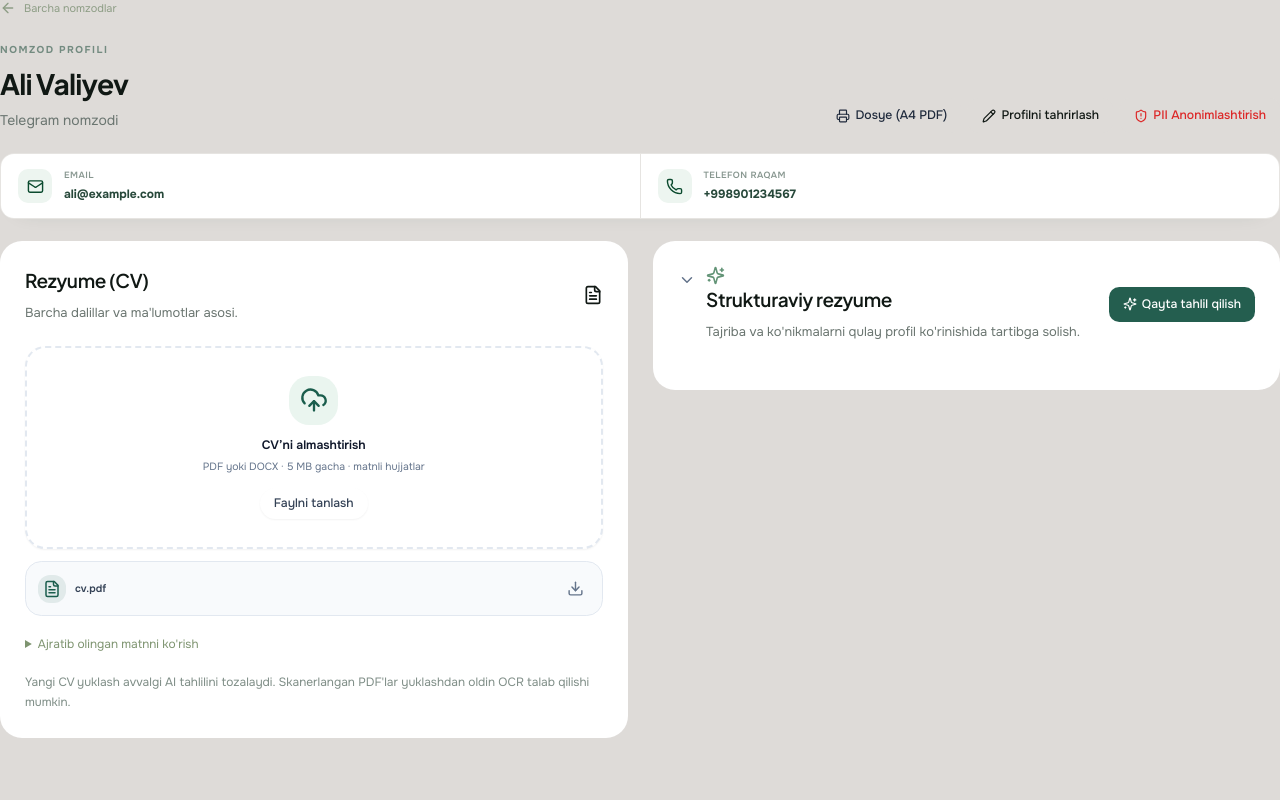
it: structured resume accordion › starts collapsed, keeps the re-parse action reachable, and opens to the parsed profile
Expected: the text "specializing in React.js" is not shown
Expected: the button "Qayta tahlil qilish" is shown, [1109, 287, 1255, 322]
Click the button "Strukturaviy rezyume".
click(886, 304)  # box [678, 266, 1094, 343]
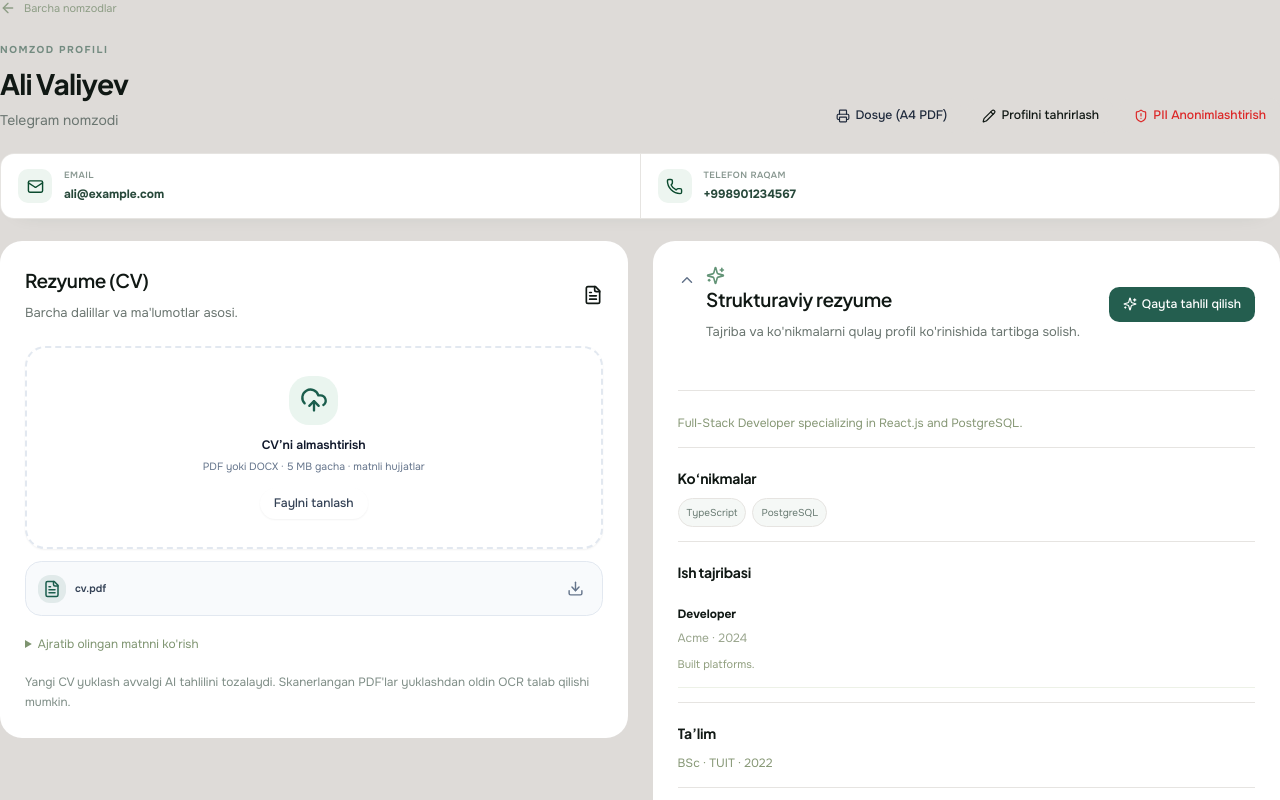
Now the button "Strukturaviy rezyume" is expanded
Now the text "specializing in React.js" is shown, box [678, 415, 1022, 431]
Now the text "TypeScript" is shown, box [678, 498, 746, 527]
Click the button "Strukturaviy rezyume".
click(886, 304)  # box [678, 266, 1094, 343]
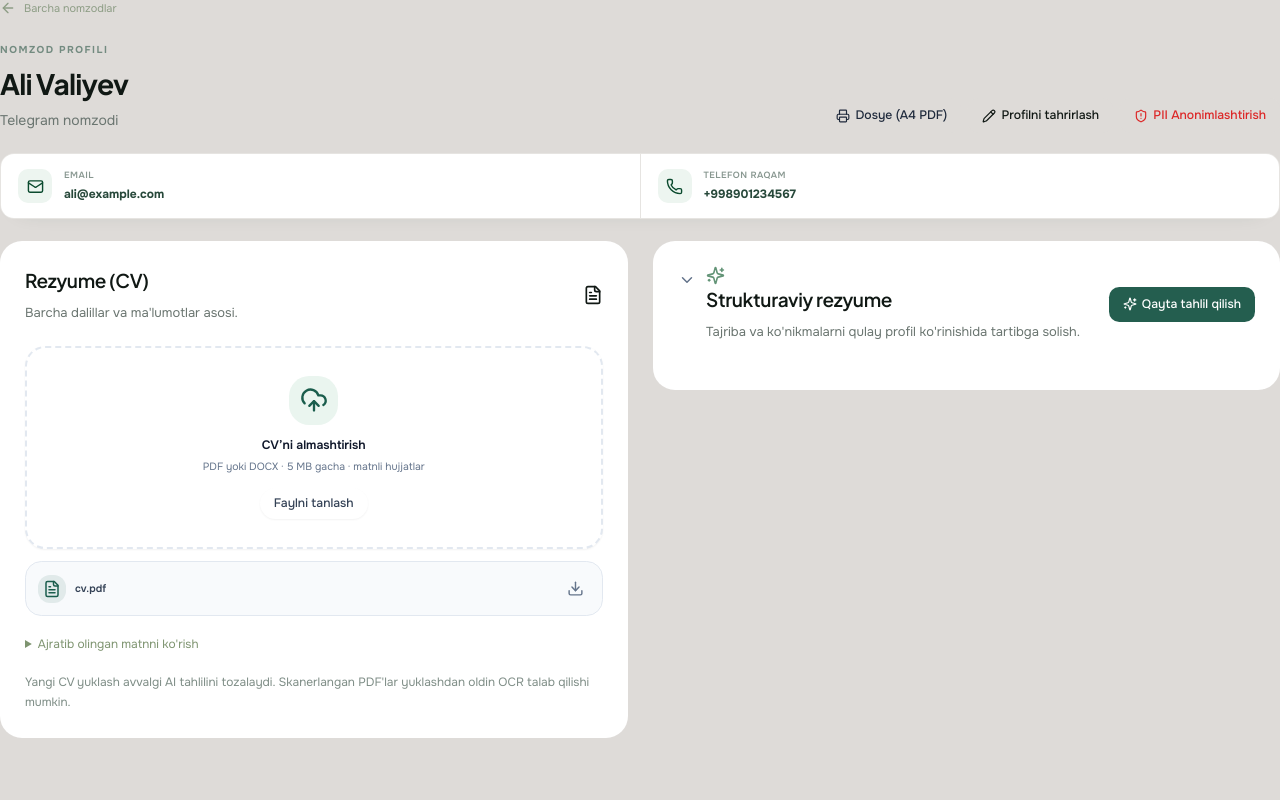
Now the button "Strukturaviy rezyume" is collapsed, box [678, 266, 1094, 343]
